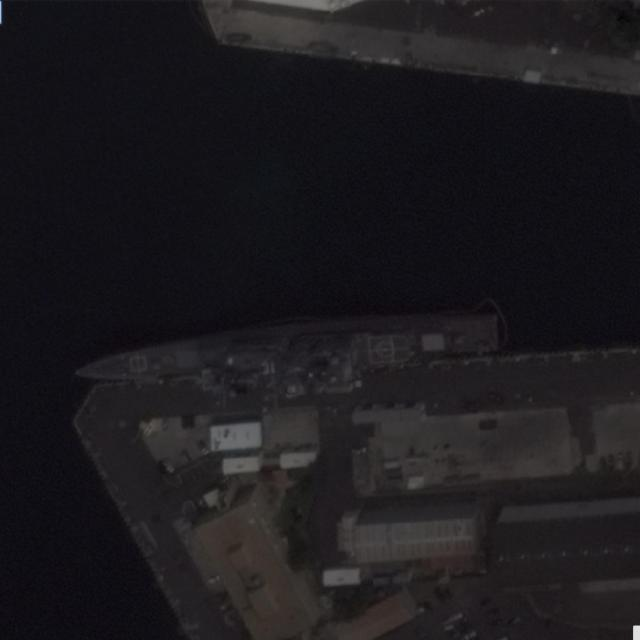Cruiser: (72, 316, 498, 389)
